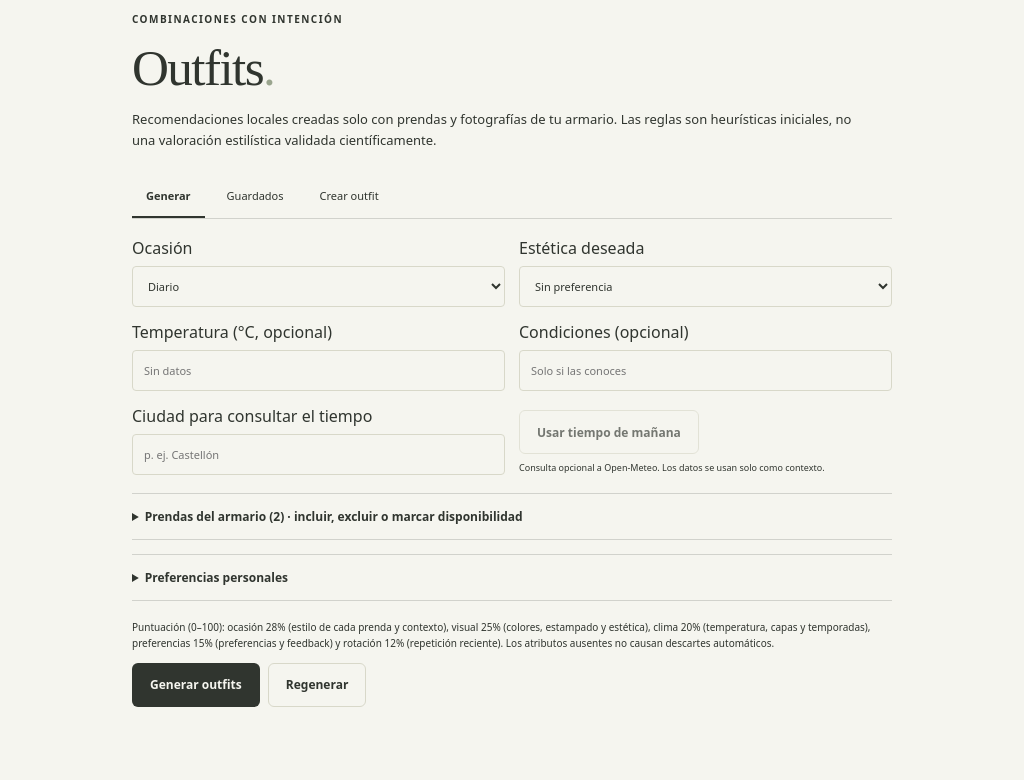
it: OutfitGenerator › creates a personal outfit from selected garments and persists it
Click the tab "Crear outfit": point(349, 197) [306,176,393,218]
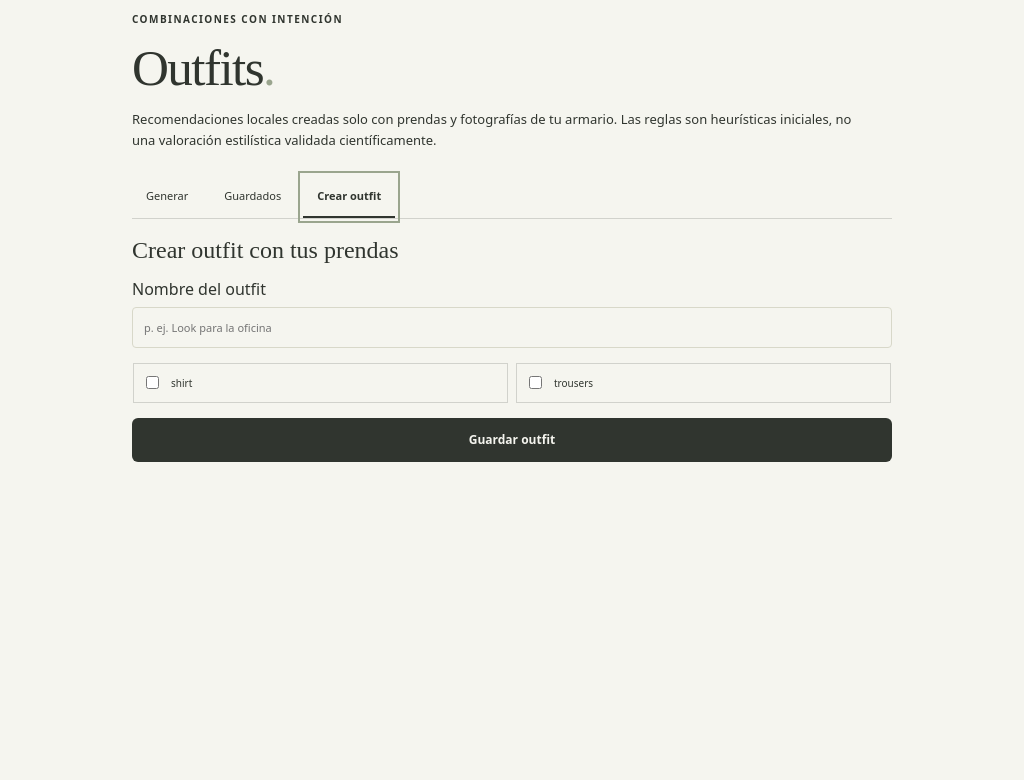
In the field labelled "Nombre del outfit": point(512, 327) [132,307,892,348], type "Mi conjunto"
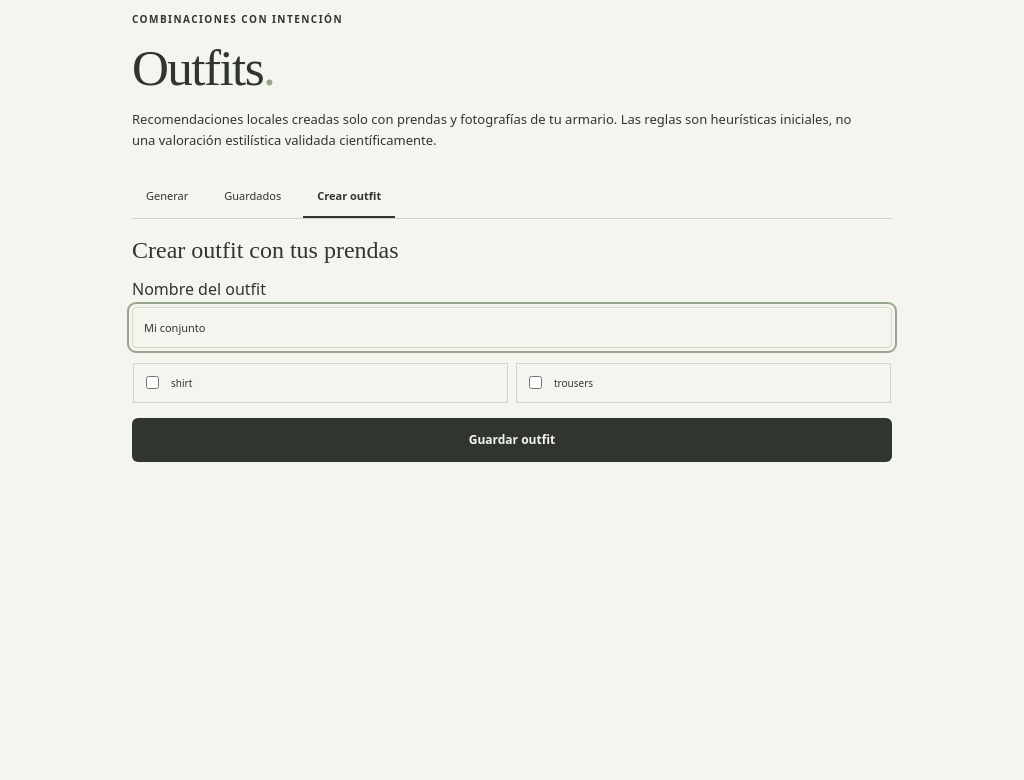
Click the checkbox labelled "shirt": point(152, 383) [146,376,159,389]
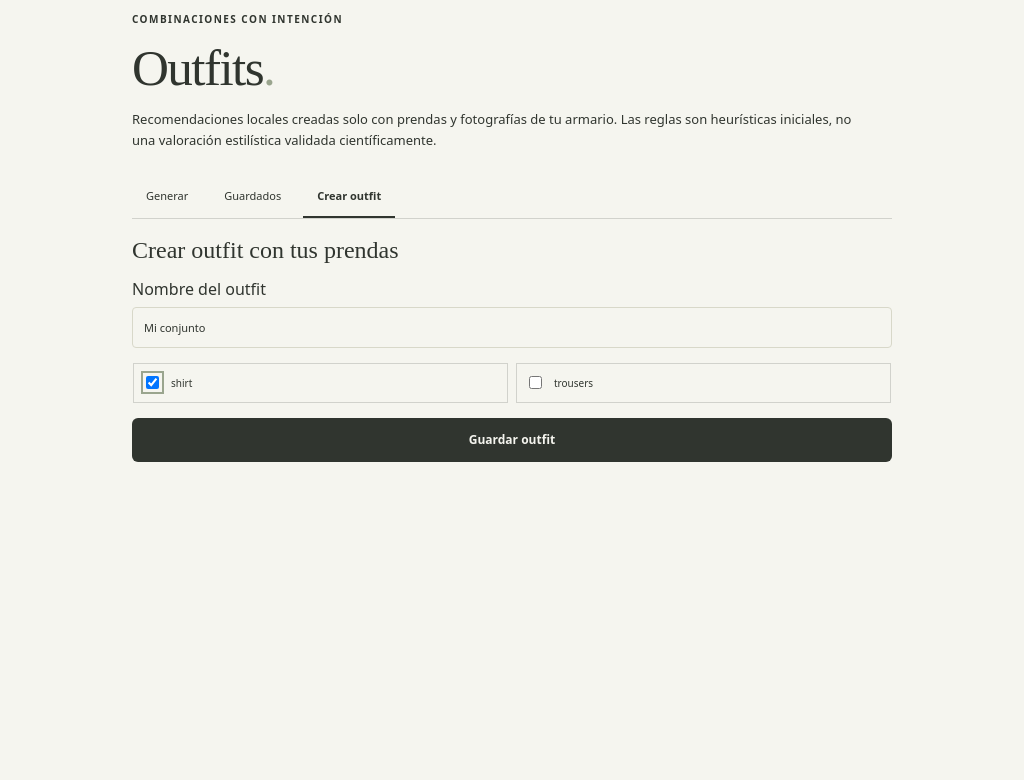
Click the checkbox labelled "trousers": point(536, 383) [529,376,542,389]
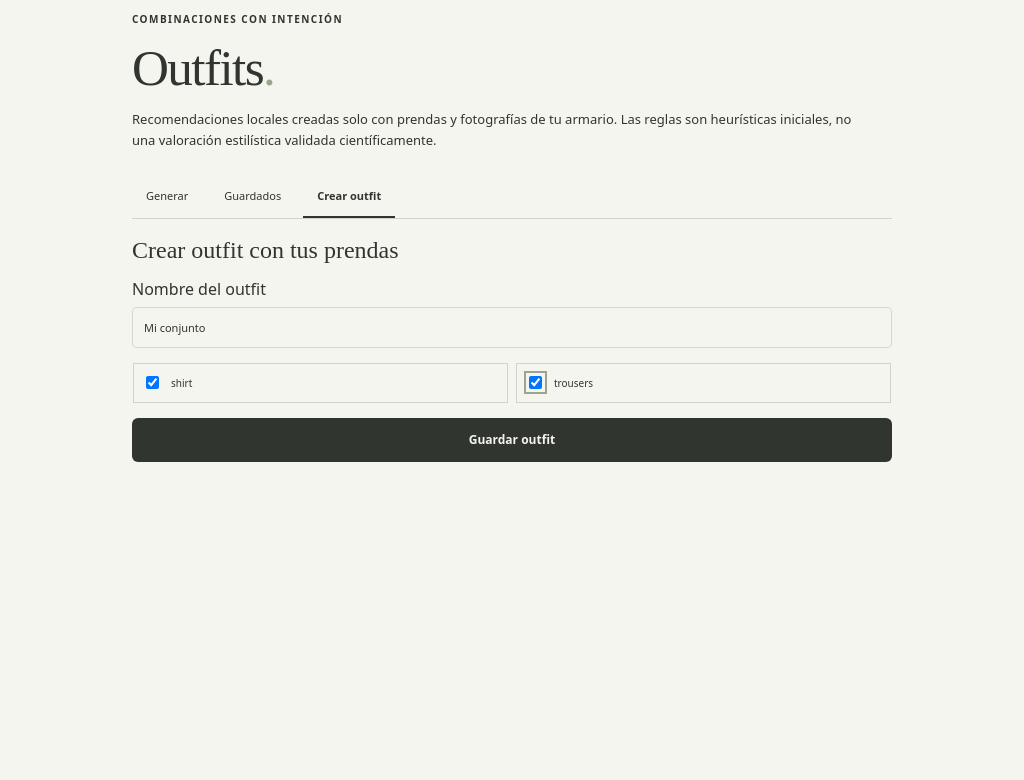
Click the button "Guardar outfit": point(512, 440) [132,418,892,462]
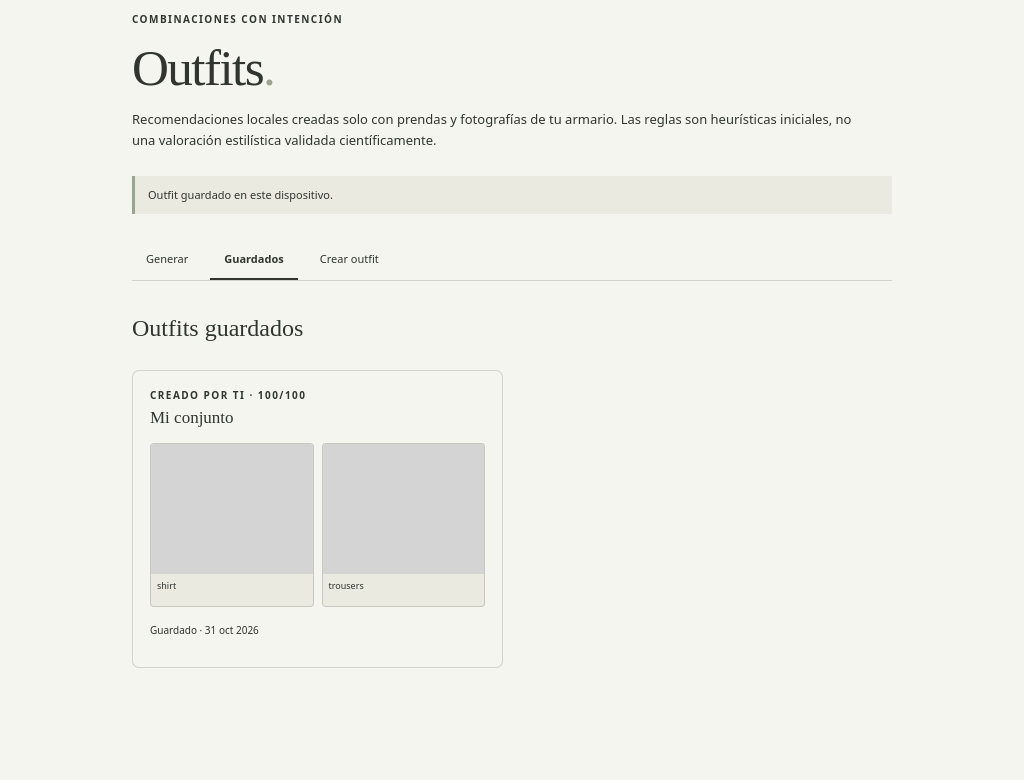
Expected: the heading "Outfits guardados" is shown, [132,315,303,341]
Expected: the heading "Mi conjunto" is shown, [150,408,234,427]
